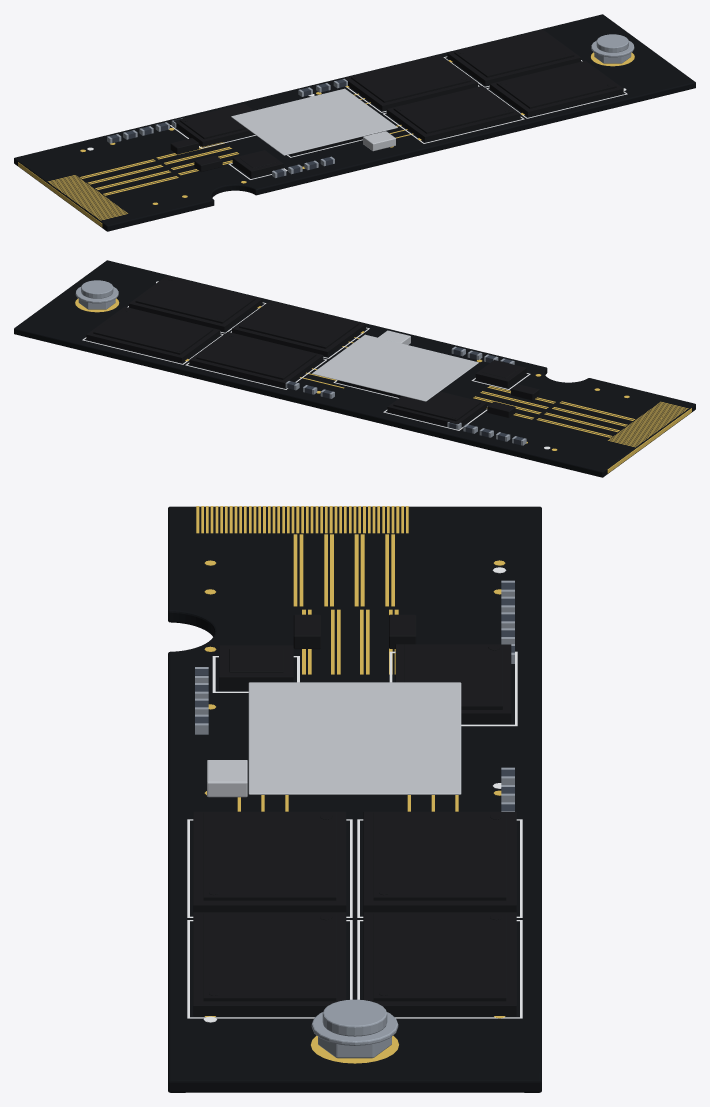
Rendered from storage-m2.lod1.glb.
3 renders of one model, top to bottom at view 1: azimuth 30°, elevation 25°; view 2: azimuth 150°, elevation 25°; view 3: azimuth 270°, elevation 25°, orthographic. The views are drawn at different scales.
Visible parts, largest first — view 1: P01_pcb, P08_label, P03_nand_04, P03_nand_02, P03_nand_03, P03_nand_01, P04_dram, P01_pcb_traces, P05_connector, P07_mounting, P01_pcb_silkscreen, P06_passives_pmic (+4 smaller); view 2: P01_pcb, P08_label, P03_nand_03, P03_nand_01, P03_nand_04, P03_nand_02, P04_dram, P01_pcb_traces, P05_connector, P07_mounting, P01_pcb_silkscreen, P06_passives_pmic (+3 smaller); view 3: P01_pcb, P08_label, P03_nand_03, P03_nand_04, P03_nand_01, P03_nand_02, P04_dram, P01_pcb_traces, P05_connector, P07_mounting, P01_pcb_silkscreen, P06_passives_pmic (+4 smaller).
Part boxes in pixels (left/top/right/bottom): P01_pcb: left=14, top=14, right=695, bottom=231; P08_label: left=231, top=88, right=397, bottom=155; P03_nand_04: left=489, top=60, right=623, bottom=116; P03_nand_02: left=386, top=86, right=520, bottom=141; P03_nand_03: left=447, top=29, right=580, bottom=85; P03_nand_01: left=344, top=54, right=477, bottom=110; P04_dram: left=174, top=103, right=254, bottom=146; P01_pcb_traces: left=80, top=52, right=634, bottom=204; P05_connector: left=18, top=162, right=127, bottom=227; P07_mounting: left=591, top=34, right=634, bottom=63; P01_pcb_silkscreen: left=87, top=56, right=627, bottom=179; P06_passives_pmic: left=232, top=150, right=283, bottom=178; P01_pcb: left=14, top=260, right=695, bottom=477; P08_label: left=312, top=334, right=478, bottom=401; P03_nand_03: left=86, top=306, right=220, bottom=362; P03_nand_01: left=189, top=332, right=323, bottom=387; P03_nand_04: left=129, top=275, right=262, bottom=331; P03_nand_02: left=232, top=300, right=365, bottom=356; P04_dram: left=387, top=391, right=486, bottom=426; P01_pcb_traces: left=75, top=298, right=635, bottom=450; P05_connector: left=607, top=401, right=691, bottom=473; P07_mounting: left=75, top=280, right=118, bottom=309; P01_pcb_silkscreen: left=82, top=281, right=550, bottom=449; P06_passives_pmic: left=475, top=360, right=526, bottom=387; P01_pcb: left=168, top=506, right=541, bottom=1092; P08_label: left=248, top=682, right=461, bottom=794; P03_nand_03: left=363, top=912, right=516, bottom=1016; P03_nand_04: left=193, top=912, right=346, bottom=1016; P03_nand_01: left=363, top=811, right=516, bottom=912; P03_nand_02: left=193, top=811, right=346, bottom=912; P04_dram: left=395, top=644, right=511, bottom=723; P01_pcb_traces: left=204, top=534, right=505, bottom=1063; P05_connector: left=196, top=506, right=408, bottom=533; P07_mounting: left=311, top=999, right=398, bottom=1058; P01_pcb_silkscreen: left=187, top=567, right=522, bottom=1022; P06_passives_pmic: left=219, top=645, right=293, bottom=690.
Bounding box in the file's own units: 80.04 × 3.45 × 22.
